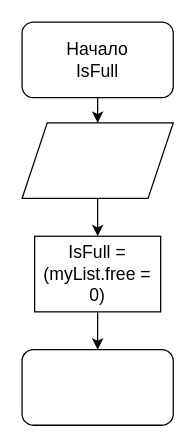
Image size: 195x447. Some labels were removed from this diagram. Each missing label, with the centre of its shape:
"Ввести lst" belongs at (x=97, y=160).
"Конец IsFull" belongs at (x=97, y=386).
